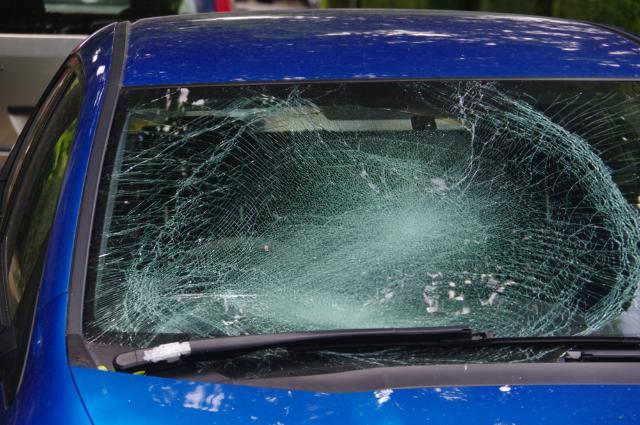glass shatter: (84, 79, 640, 379)
